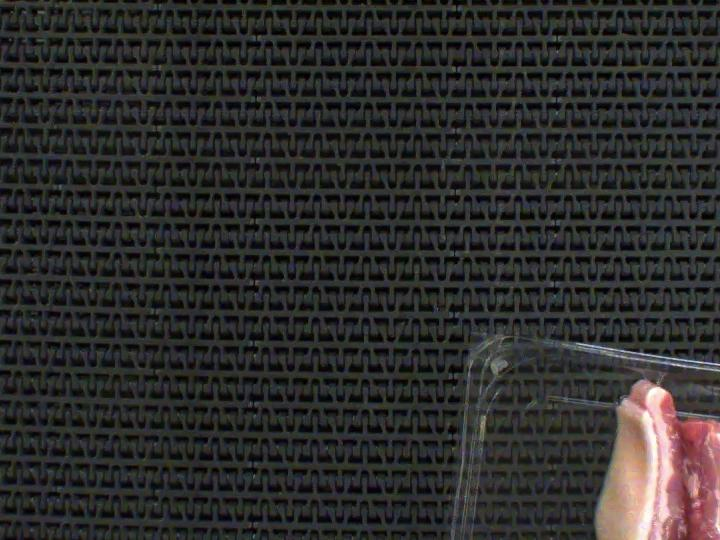packaging-error: (630, 361, 673, 392)
